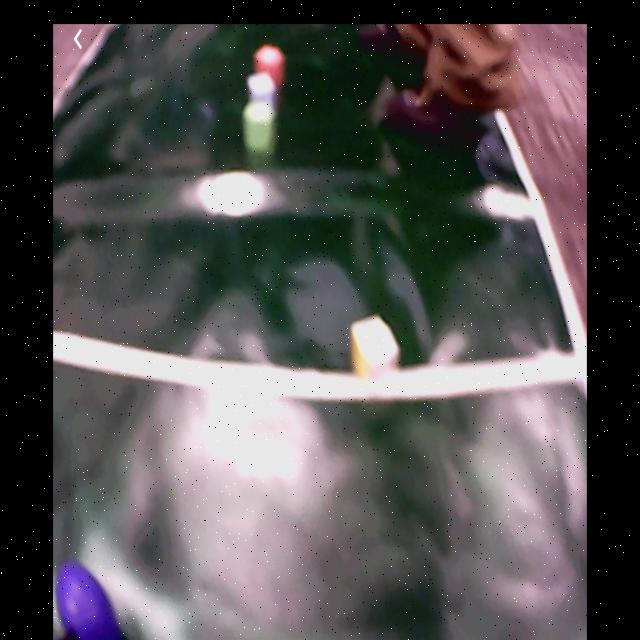ball: (57, 563, 117, 640)
